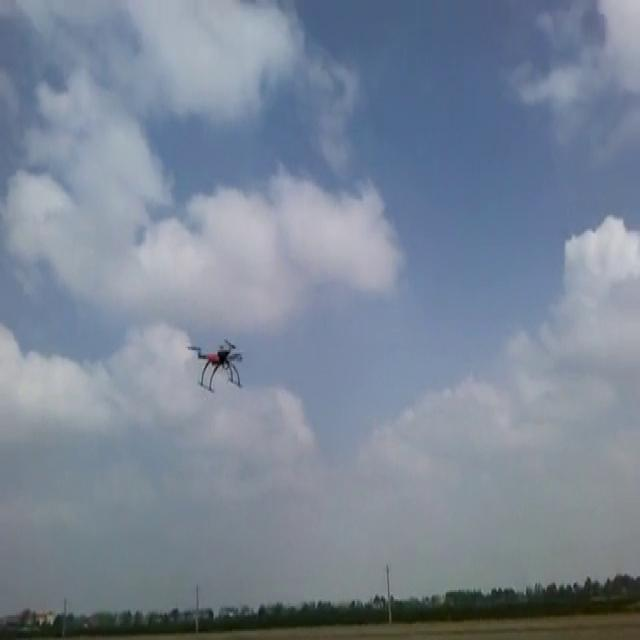drone: (185, 334, 242, 392)
